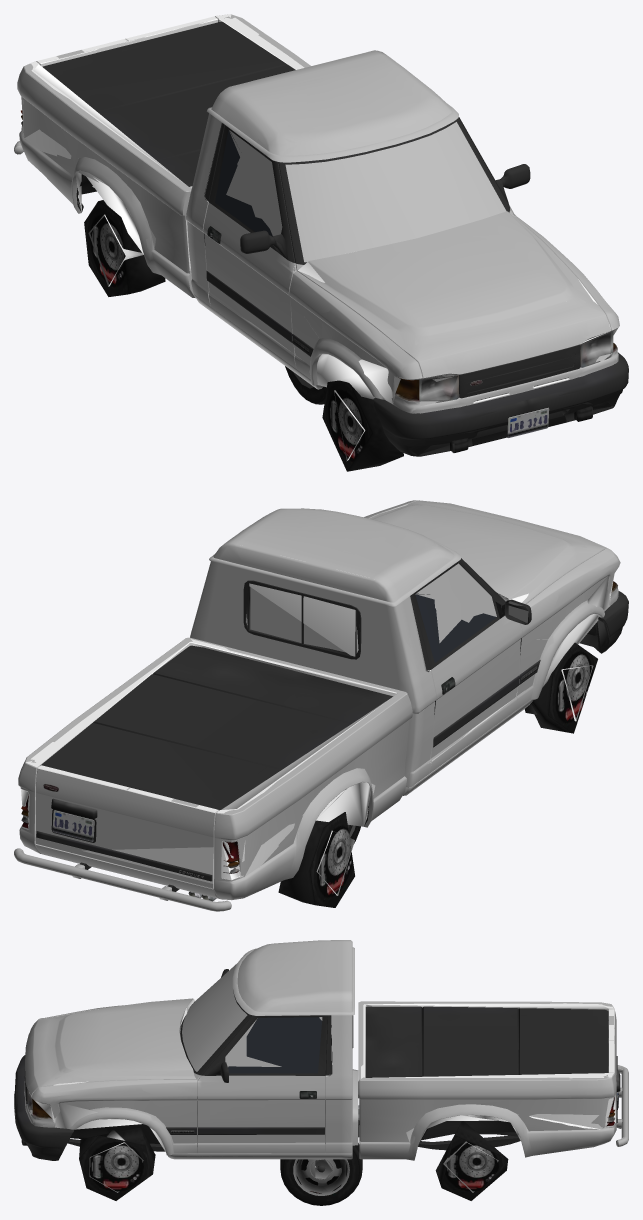
The model's file is pickup.glb.
The picture shows the model from 3 angles, top to bottom: view 1: azimuth 30°, elevation 25°; view 2: azimuth 150°, elevation 25°; view 3: azimuth 270°, elevation 25°; orthographic projection. The views are drawn at different scales.
Visible parts, largest first — view 1: paint0, far, paint1, glass0, kit0, glass1, kit1; view 2: paint0, far, paint1, kit1, kit0, glass0, glass1; view 3: paint0, far, paint1, kit0, kit1, wheel0, glass0, glass1, wheel1.
Part boxes in pixels (x1,y1,x2,y2): paint0: (17, 14, 619, 413); far: (21, 14, 618, 471); paint1: (17, 16, 619, 413); glass0: (229, 122, 505, 262); kit0: (14, 20, 628, 456); glass1: (226, 122, 506, 261); kit1: (23, 22, 626, 456); paint0: (18, 500, 619, 899); far: (21, 504, 617, 907); paint1: (18, 501, 620, 899); kit1: (21, 573, 621, 902); kit0: (14, 558, 628, 911); glass0: (250, 564, 496, 652); glass1: (250, 563, 461, 643); paint0: (24, 940, 616, 1160); far: (24, 998, 615, 1200); paint1: (24, 941, 615, 1160); kit0: (14, 969, 628, 1160); kit1: (14, 969, 626, 1156); wheel0: (280, 1143, 362, 1205); glass0: (182, 973, 322, 1071); glass1: (182, 964, 281, 1070); wheel1: (293, 1159, 348, 1195).
Size of the model in its own units: 2.1 by 2.2 by 5.22.
1 material, 1 textured.
